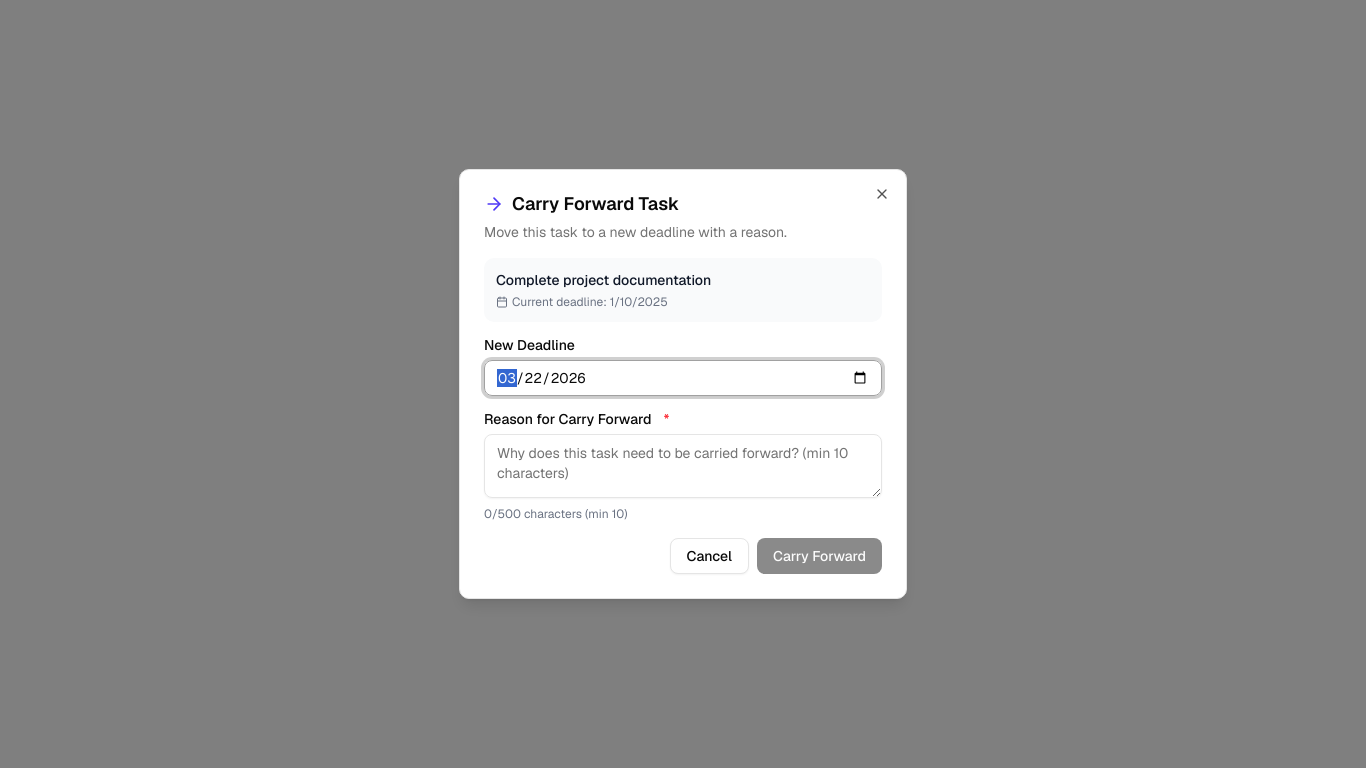
Scenario: CarryForwardModal › updates character count when typing reason
The width and height of the screenshot is (1366, 768).
Type "Testing reason" into the text box with placeholder "Why does this task" at [683, 466], box left=484, top=434, right=882, bottom=498
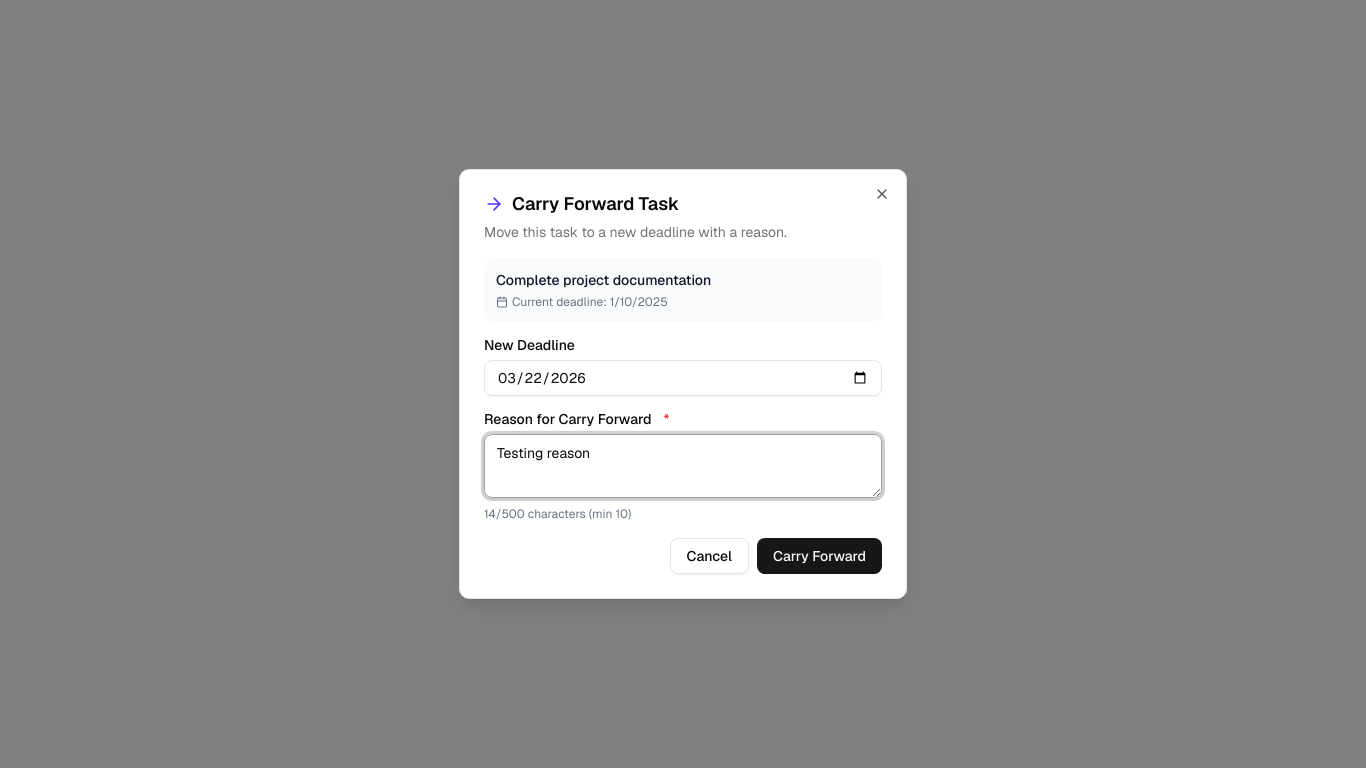
Now the text "14/500 characters (min 10)" is shown, box left=484, top=506, right=631, bottom=522
